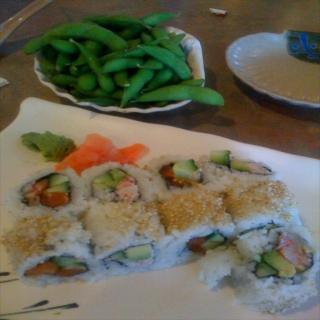Sushi: (0, 152, 320, 311), (3, 148, 319, 308), (3, 206, 98, 286), (27, 168, 76, 218)
